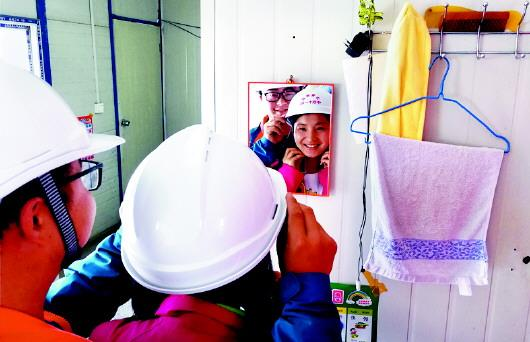helmet: (113, 125, 288, 295), (1, 67, 128, 174), (285, 88, 334, 120)
